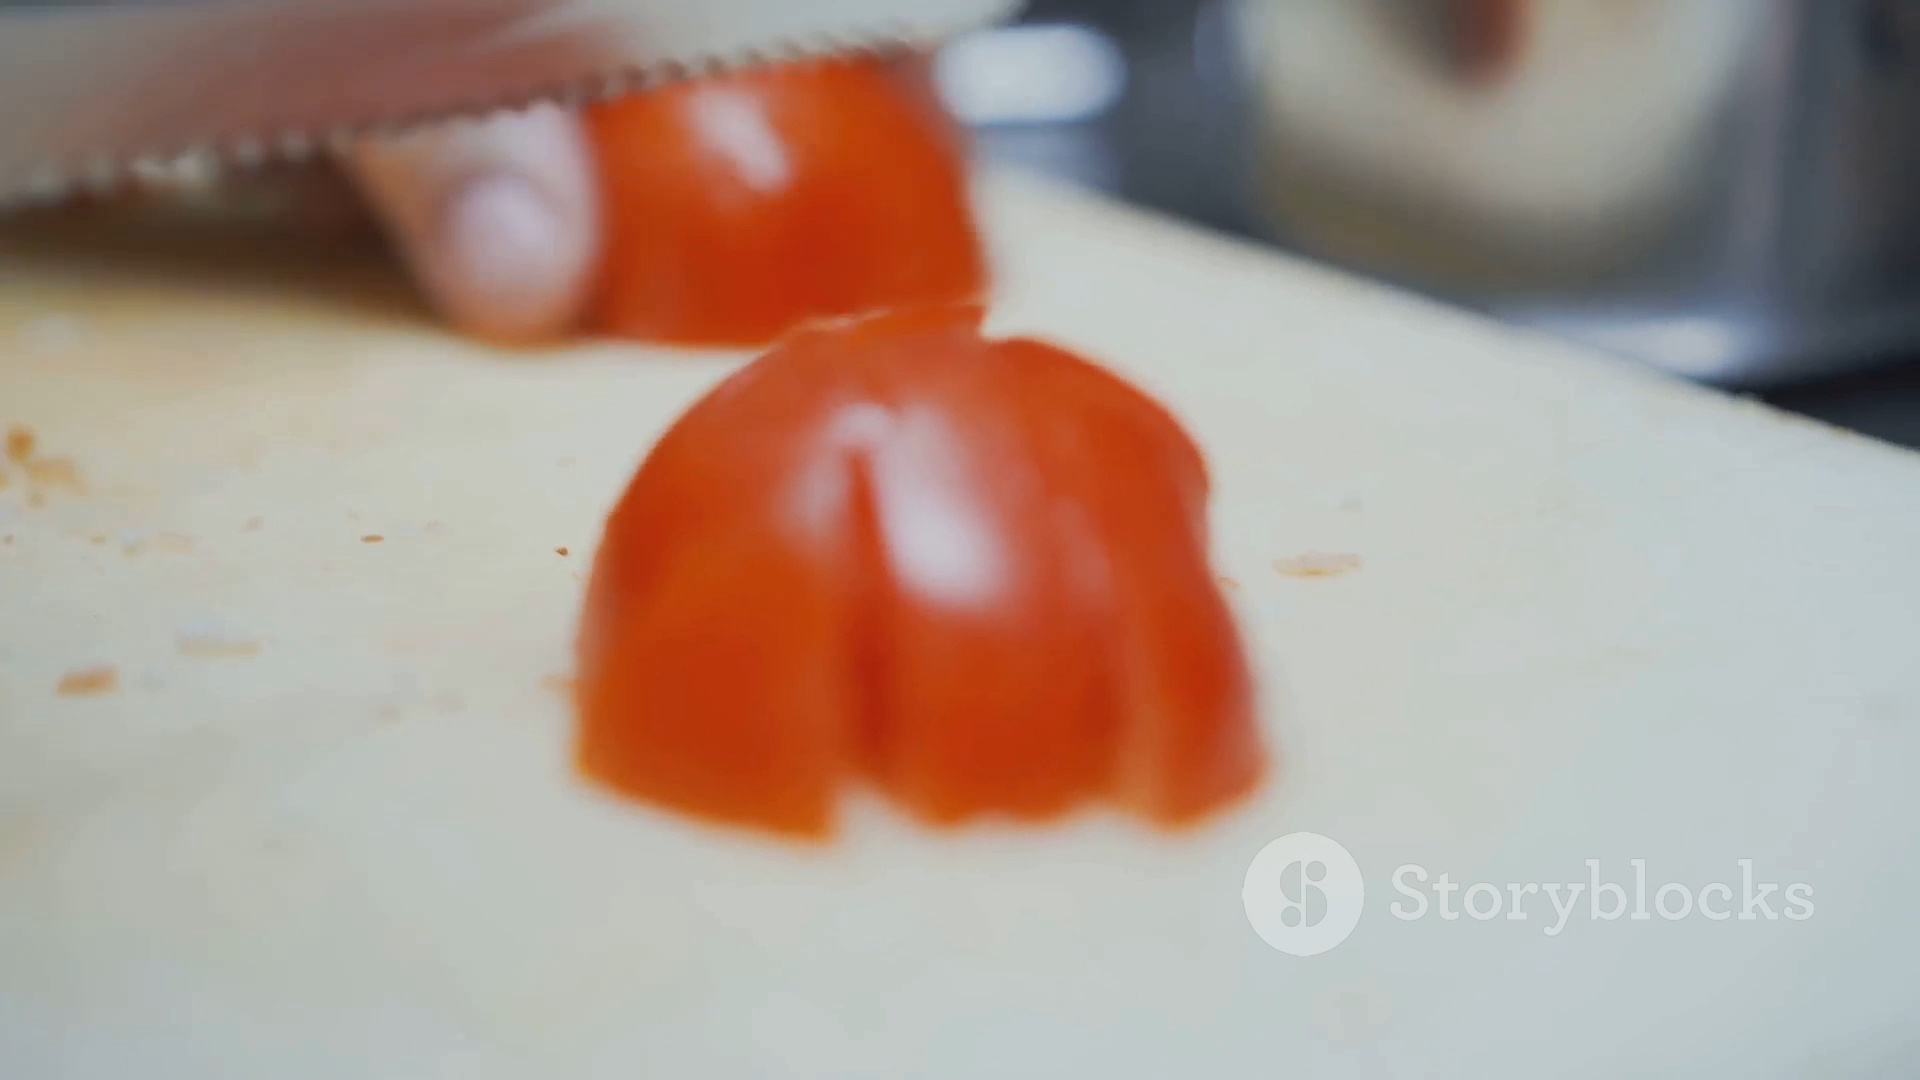cortante: (0, 0, 1065, 215)
